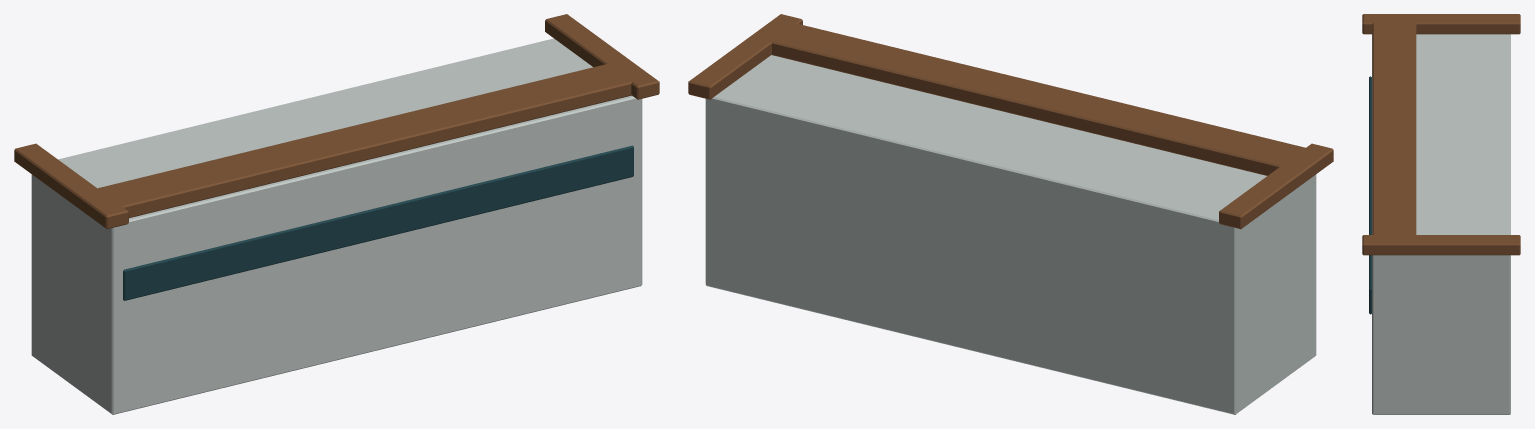
The model's file is ReceptionWide.fbx.
3 renders of one model, left to right at view 1: azimuth 30°, elevation 25°; view 2: azimuth 150°, elevation 25°; view 3: azimuth 270°, elevation 25°, orthographic. The views are drawn at different scales.
Parts seen in each view (by area): view 1: ReceptionWide; view 2: ReceptionWide; view 3: ReceptionWide.
Boxes of the visible parts, x1,y1,x2,y2 form: ReceptionWide: (14, 14, 659, 414); ReceptionWide: (688, 14, 1333, 414); ReceptionWide: (1362, 14, 1520, 414).
Size of the model in its own units: 334 by 119 by 97.
1 material, 1 textured.
